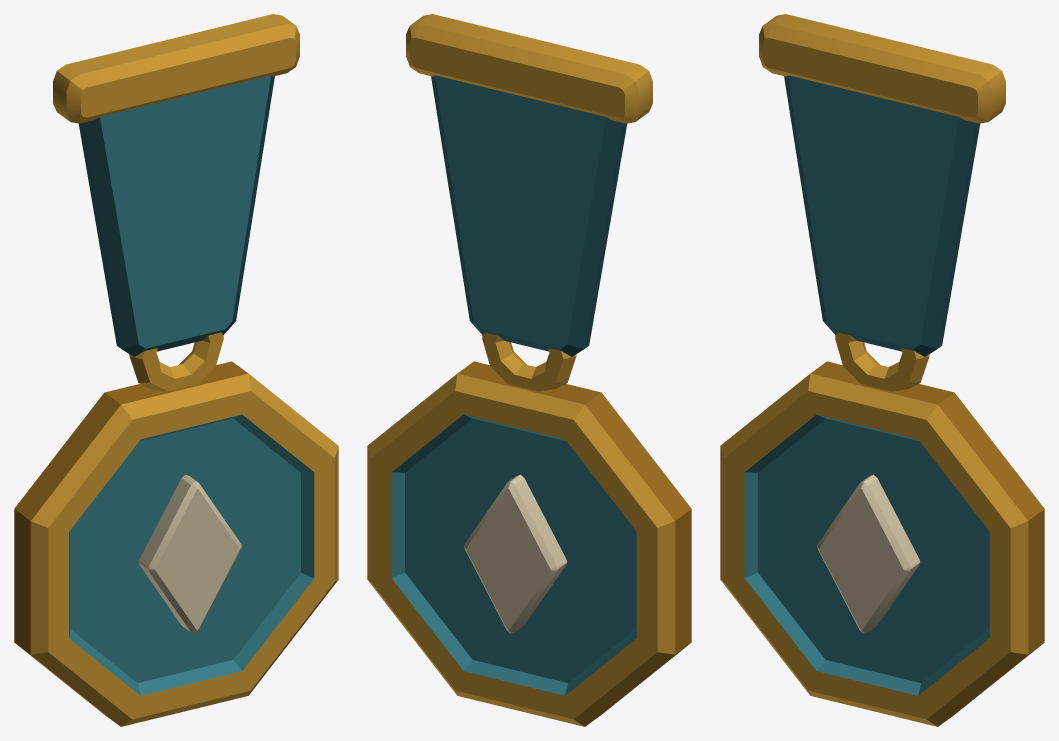
Rendered from Medal_37.glb.
3 renders of one model, left to right at view 1: azimuth 30°, elevation 25°; view 2: azimuth 150°, elevation 25°; view 3: azimuth 330°, elevation 25°, orthographic.
Visible parts, largest first — view 1: Medal_37; view 2: Medal_37; view 3: Medal_37.
Part boxes in pixels (box(x1,y1,x2,y2)): Medal_37: box(14, 14, 338, 726); Medal_37: box(367, 14, 691, 726); Medal_37: box(720, 14, 1044, 726).
Bounding box in the file's own units: 1.18 × 2.41 × 0.28.
